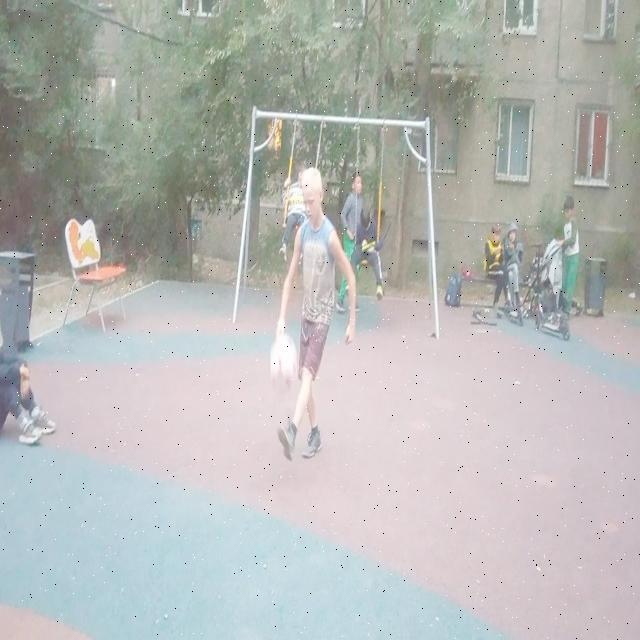ball: (270, 333, 298, 387)
